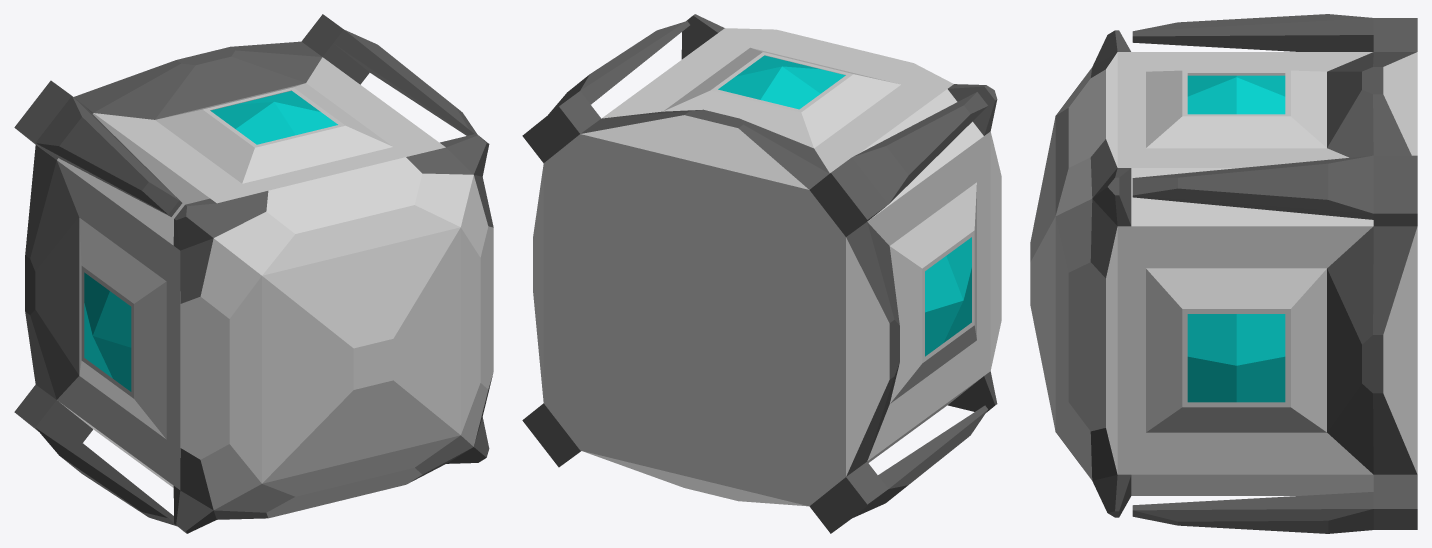
Rendered from Unbreakable big box.fbx.
3 views of the same model, side by side, from view 1: azimuth 30°, elevation 25°; view 2: azimuth 150°, elevation 25°; view 3: azimuth 270°, elevation 25° (orthographic). The views are drawn at different scales.
Parts seen in each view (by area): view 1: Cube.007; view 2: Cube.007; view 3: Cube.007.
Boxes of the visible parts, <box> form: Cube.007: <box>14,14,493,533</box>; Cube.007: <box>522,14,1001,533</box>; Cube.007: <box>1030,14,1417,533</box>.
Size of the model in its own units: 240 by 240 by 214.
